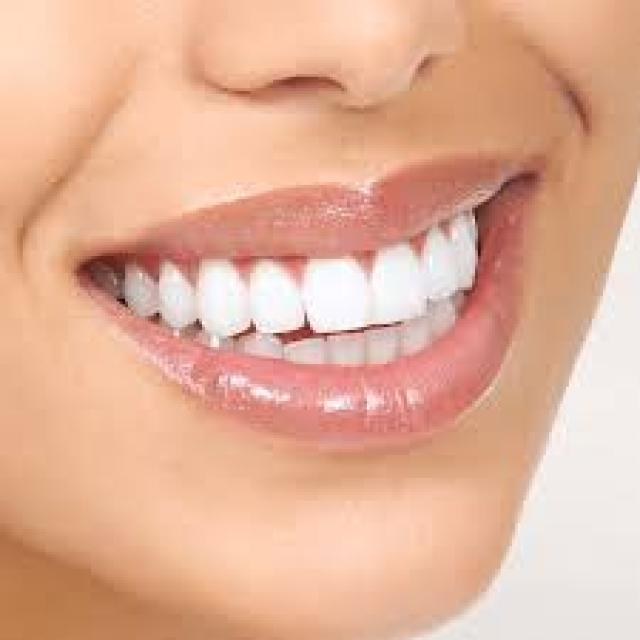tooth: (307, 253, 373, 327), (250, 256, 304, 330), (199, 256, 253, 330), (375, 239, 421, 310), (154, 259, 196, 324), (120, 264, 156, 313), (430, 230, 455, 293), (398, 319, 430, 367), (455, 219, 478, 284), (327, 330, 364, 364), (282, 341, 336, 364), (239, 333, 279, 358), (432, 301, 458, 333), (370, 330, 395, 361), (91, 262, 119, 287), (196, 330, 234, 347)
